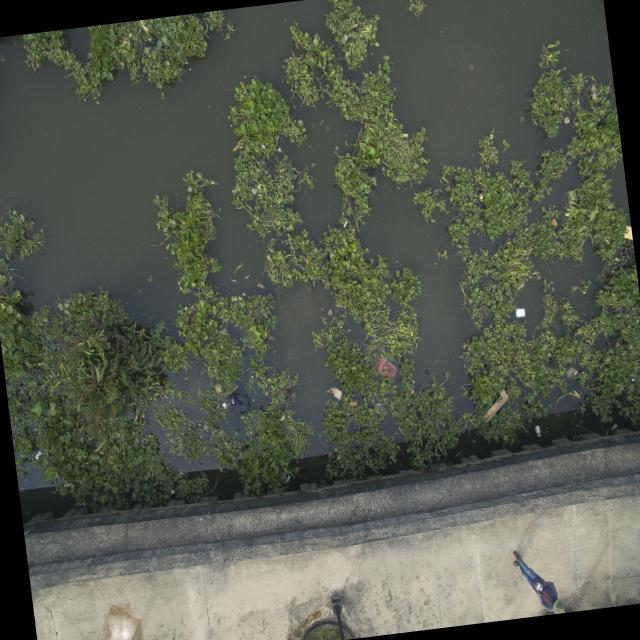Plastic: (368, 351, 398, 381), (221, 390, 250, 416), (622, 224, 632, 242), (513, 305, 526, 318), (533, 424, 542, 438), (33, 449, 43, 459), (214, 382, 222, 392)
